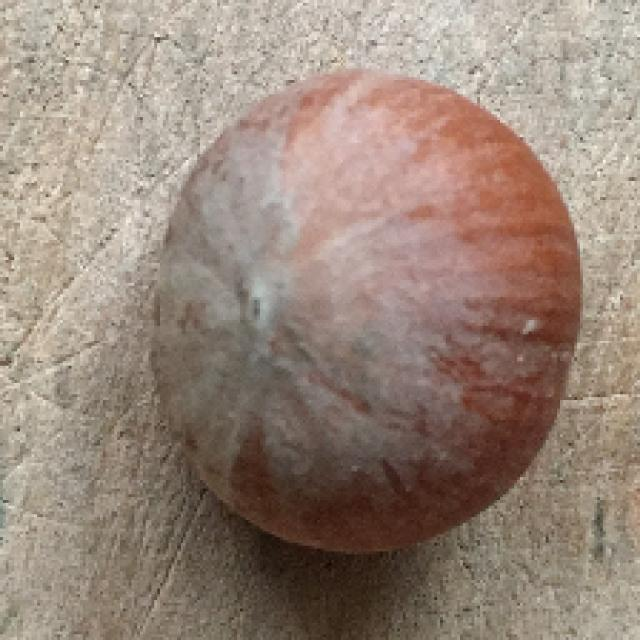qualityHazelnut: (153, 72, 583, 558)
